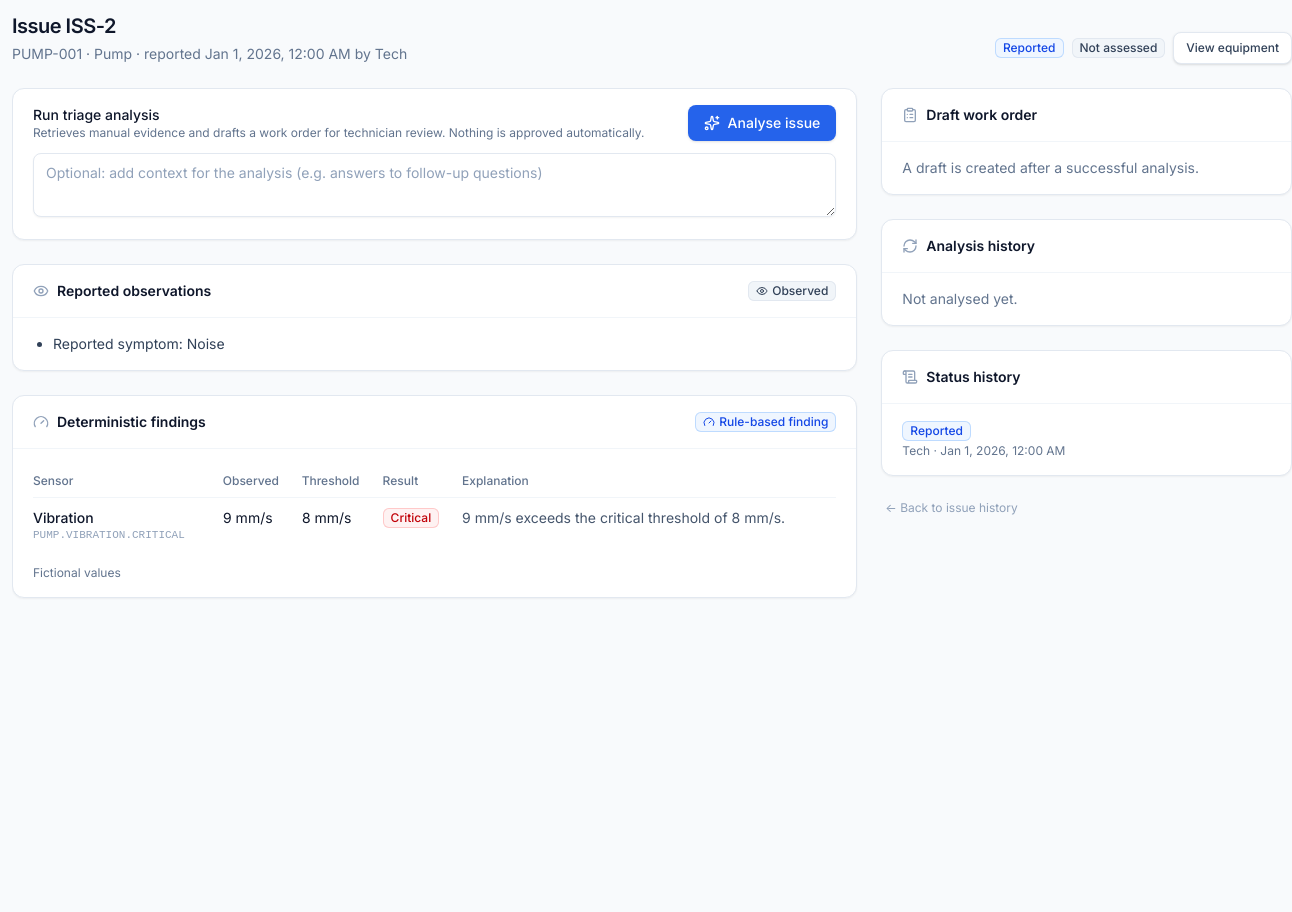
IssueAnalysis page › shows the AI failure clearly and keeps the issue
The width and height of the screenshot is (1292, 912).
Expected: the heading "Issue ISS-2" is shown, [12, 14, 116, 38]
Expected: the text "9 mm/s exceeds the critical threshold of 8 mm/s." is shown, [462, 497, 836, 553]
Click the button "Analyse issue": coordinates (762, 123) [688, 105, 836, 141]
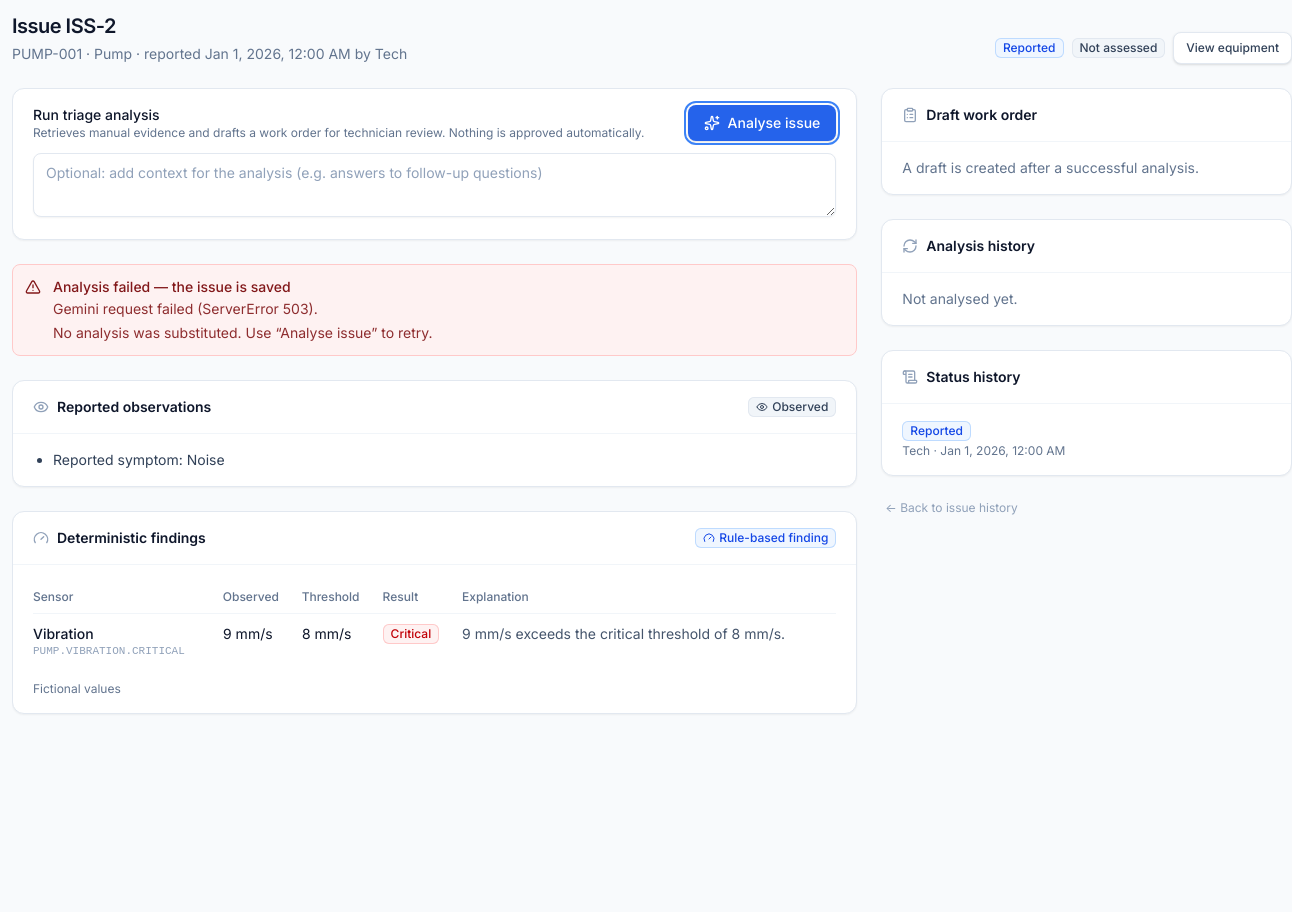
Now the text "Analysis failed — the issue is saved" is shown, box [53, 278, 291, 294]
Now the text "Gemini request failed (ServerError 503)." is shown, box [53, 300, 318, 316]
